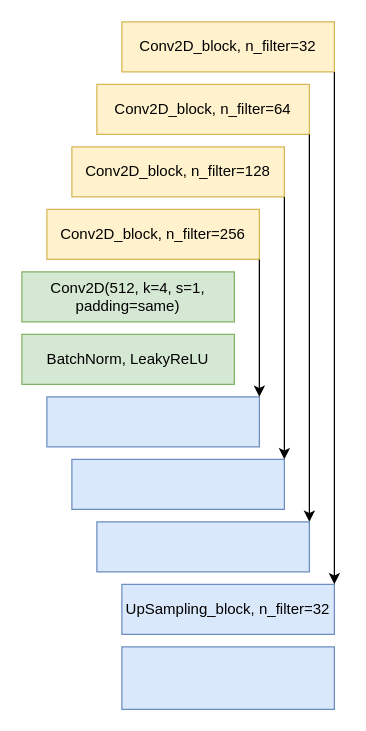
Some shapes in this 366 by 731 pixel diagram are drawn without their labels. The shapes that lost their labels are listed below. From the top down, each one's centre as x and y in pixels, then its label:
the point at 152,421: UpSampling_block, n_filter=256
the point at 177,483: UpSampling_block, n_filter=128
the point at 202,546: UpSampling_block, n_filter=64
the point at 227,677: Output Conv2d(3,k=1,s=1,padd=same, tanh)
